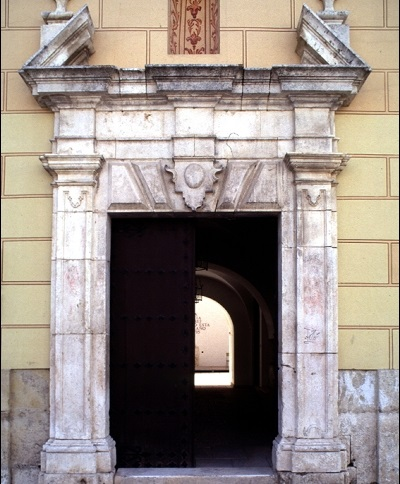fronton-partido: (15, 1, 377, 104)
vano-adintelado: (84, 198, 327, 480)
